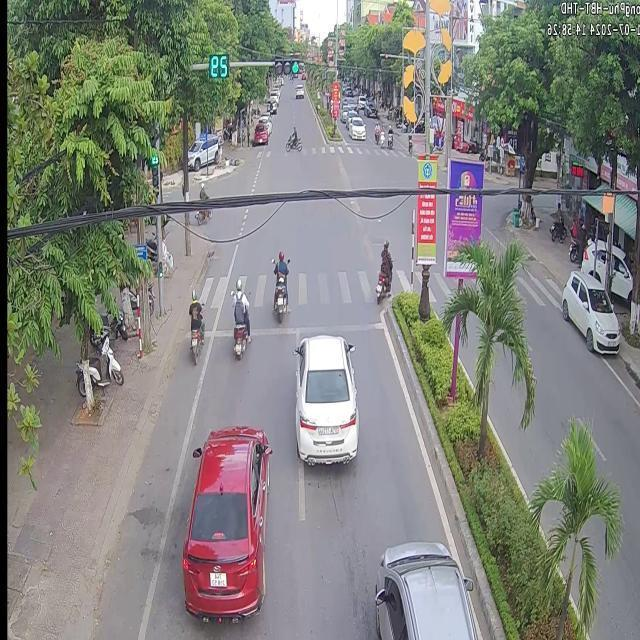car: (177, 421, 268, 619), (373, 540, 476, 638), (292, 336, 357, 467)
green_light: (270, 51, 301, 76), (148, 154, 158, 187)
motobike: (228, 267, 249, 363), (184, 282, 205, 377), (269, 247, 289, 324), (374, 235, 392, 302)
stop_line: (182, 321, 383, 336)
